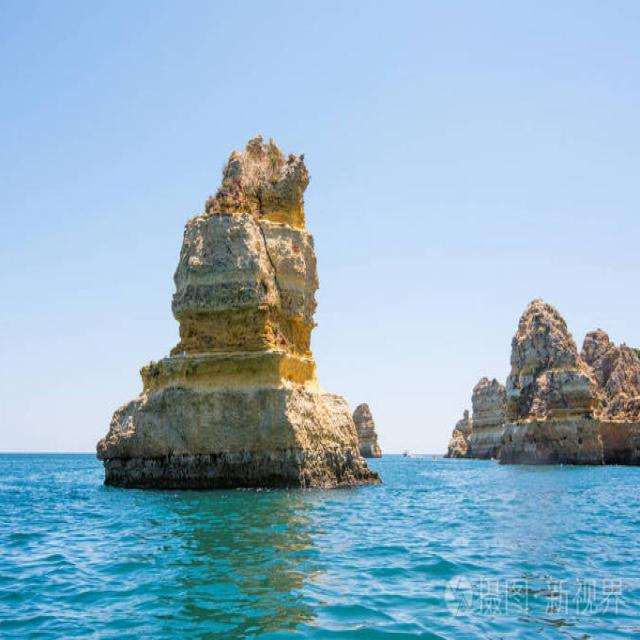reef: (94, 116, 378, 496), (442, 268, 640, 475)
